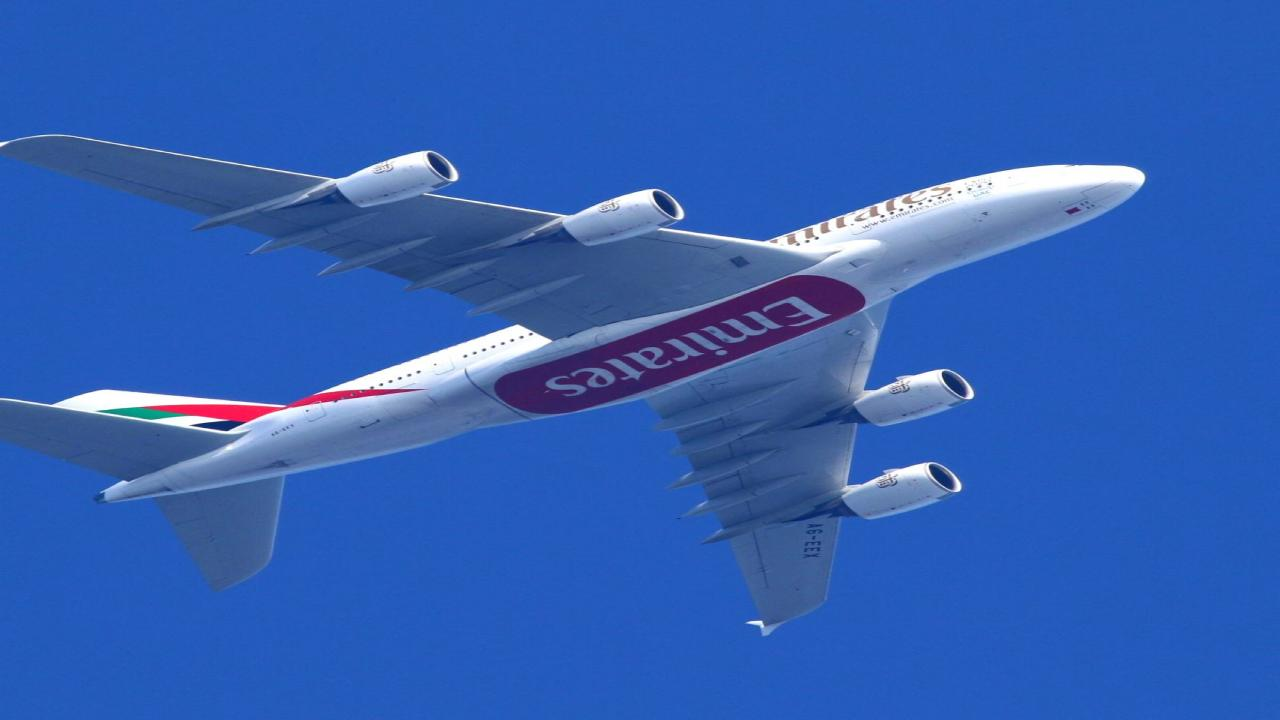Airplane: (0, 103, 1171, 666)
